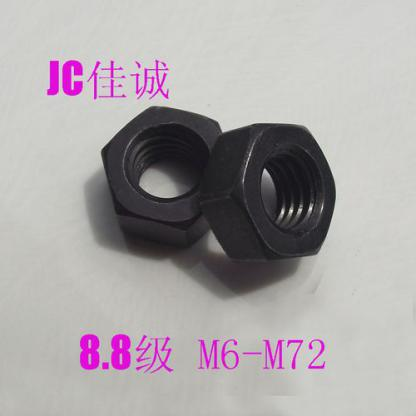FOD: (200, 119, 344, 263), (98, 104, 228, 246)
